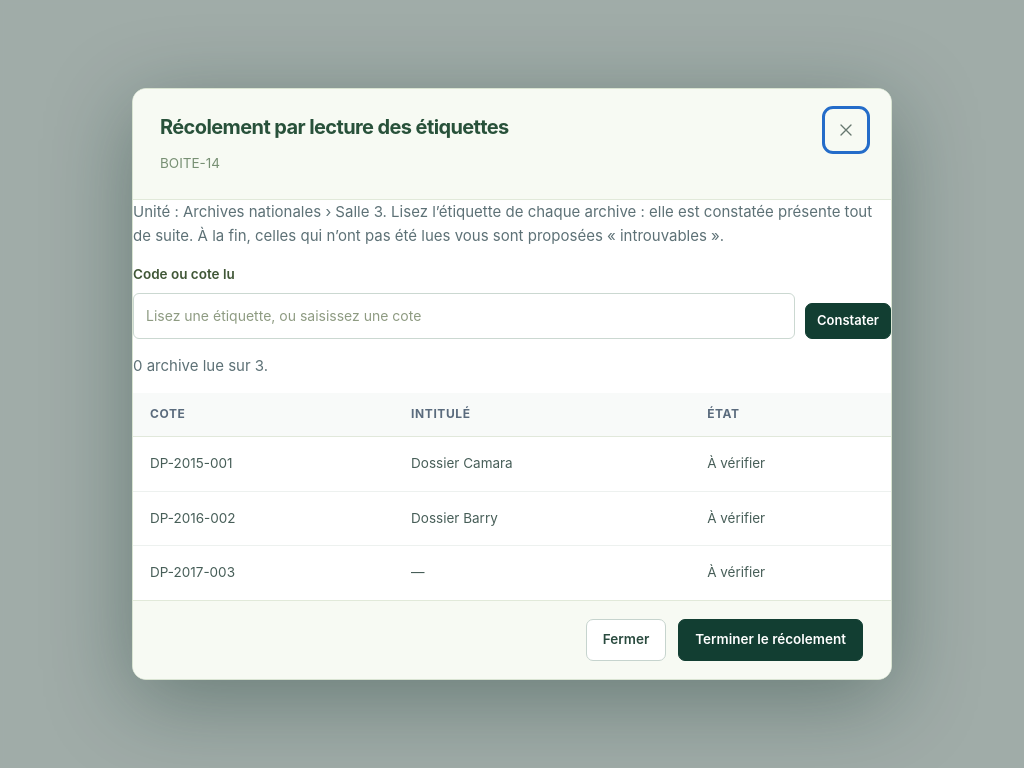
Scenario: dit pourquoi un constat échoue et laisse l’archive à vérifier
This screenshot has width=1024, height=768.
Type "DP-2015-001" into the field labelled "Code ou cote lu".
click(464, 316); type("DP-2015-001")  # box [133,293,795,339]
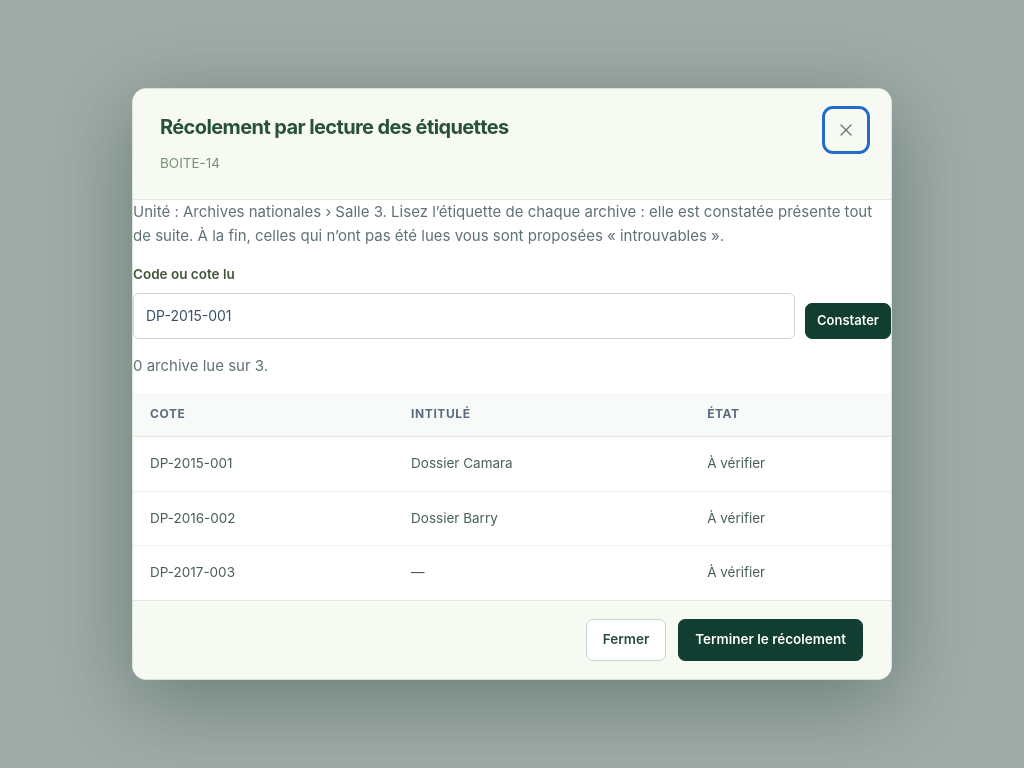
Click the button "Constater".
click(848, 321)  # box [805,303,891,339]
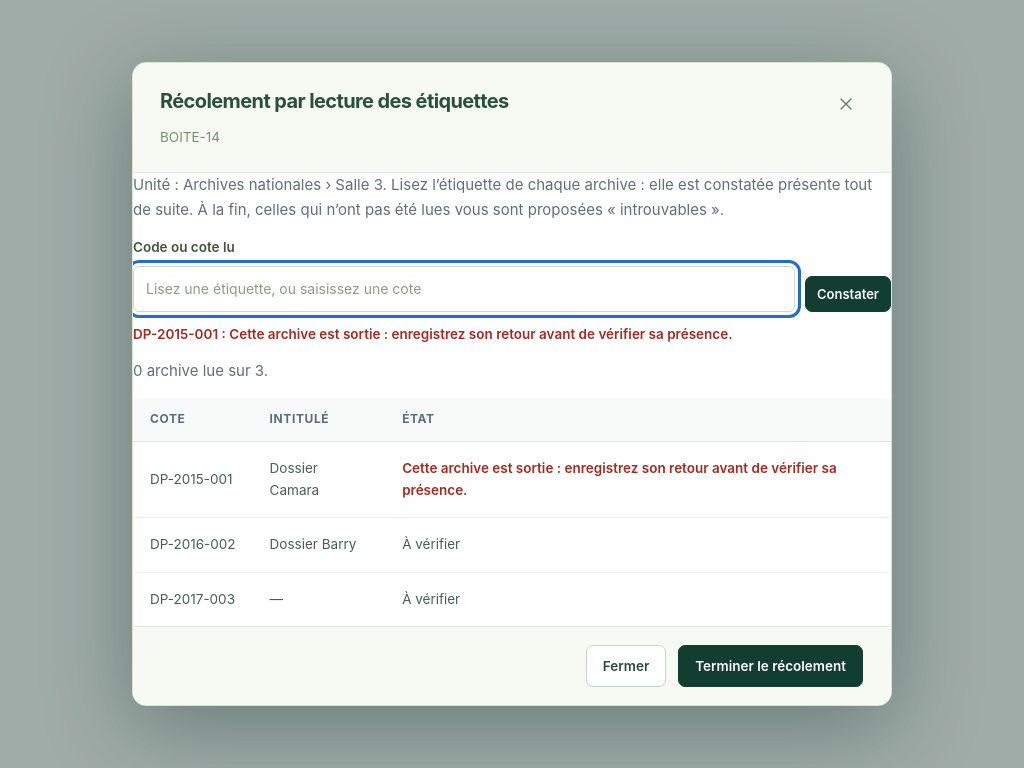
Expected: the text "0 archive lue sur 3." is shown, [133,361,268,380]
Expected: the text "Cette archive est sortie" is shown, [402,460,837,498]
